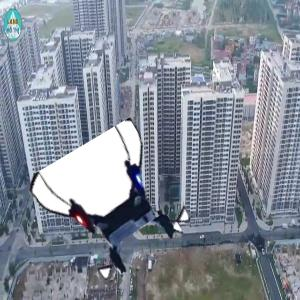drone: (48, 138, 186, 276)
